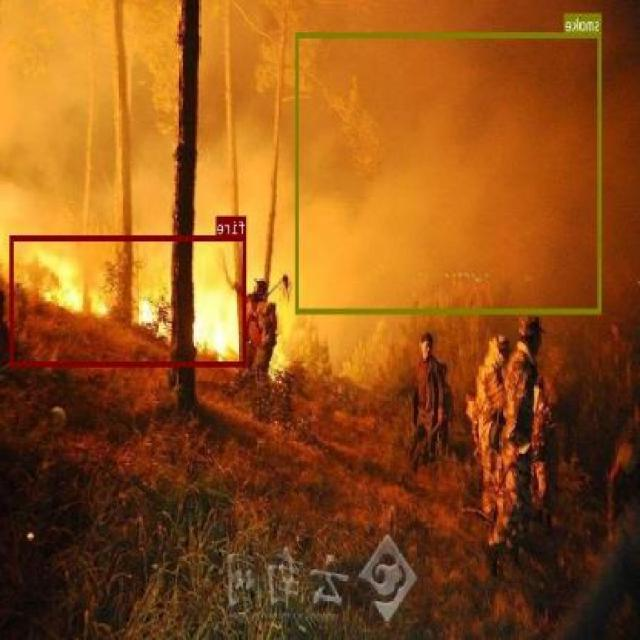Fire: (10, 234, 247, 366)
Smoke: (296, 32, 602, 312)
